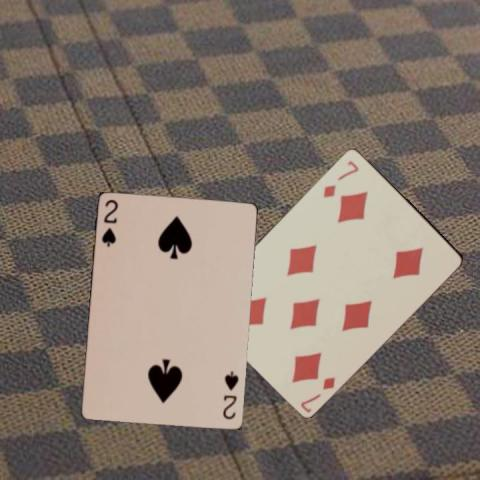2s: (98, 196, 119, 248), (219, 368, 240, 420)
7d: (320, 158, 361, 200), (297, 374, 337, 414)
